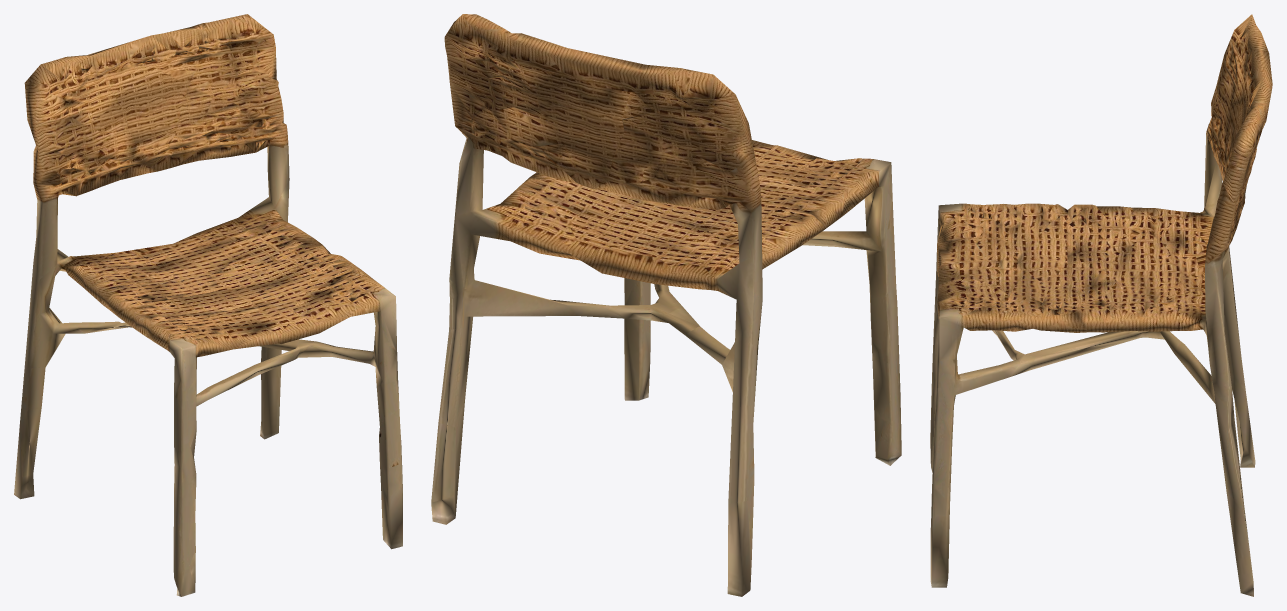
The model's file is cafechair_lod1.glb.
3 renders of one model, left to right at view 1: azimuth 30°, elevation 25°; view 2: azimuth 150°, elevation 25°; view 3: azimuth 270°, elevation 25°, orthographic. The views are drawn at different scales.
Visible parts, largest first — view 1: tripo_node_31f12766-8293-424b-b3c6-709b9bef3fed; view 2: tripo_node_31f12766-8293-424b-b3c6-709b9bef3fed; view 3: tripo_node_31f12766-8293-424b-b3c6-709b9bef3fed.
Boxes of the visible parts, x1=… form: tripo_node_31f12766-8293-424b-b3c6-709b9bef3fed: x1=14, y1=14, x2=402, y2=596; tripo_node_31f12766-8293-424b-b3c6-709b9bef3fed: x1=431, y1=14, x2=901, y2=596; tripo_node_31f12766-8293-424b-b3c6-709b9bef3fed: x1=930, y1=14, x2=1272, y2=596.
Bounding box in the file's own units: 0.5382 × 0.8482 × 0.5708.
Materials: 1 (1 with a texture image).
